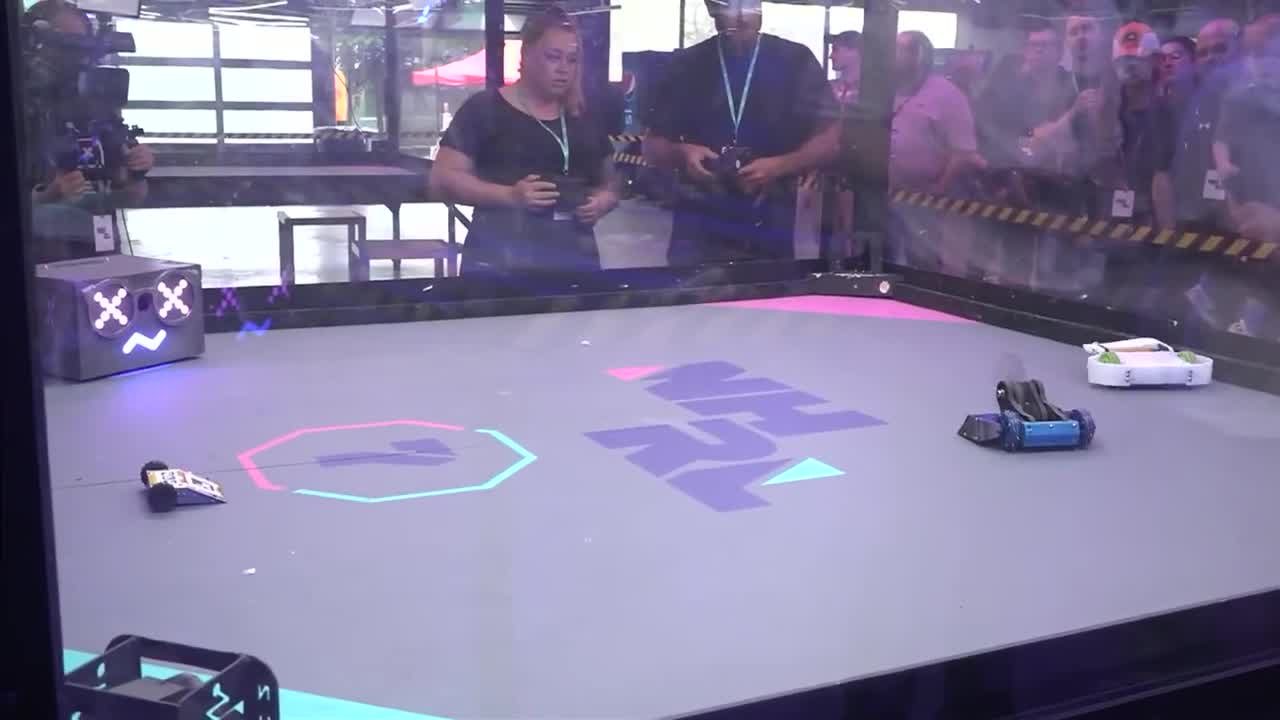combatbot: (958, 377, 1096, 456), (1083, 338, 1216, 392)
housebot: (33, 254, 205, 384)
minibot: (136, 461, 228, 515)
